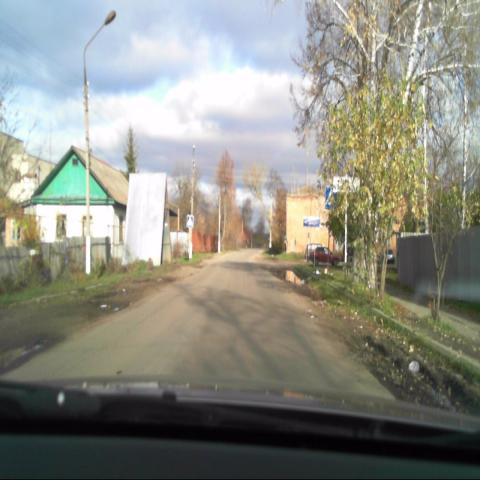5_19_1: (186, 215, 194, 227)
